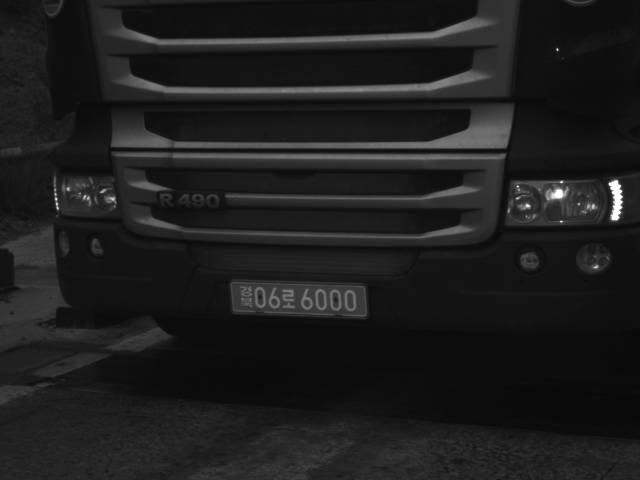car: (37, 1, 640, 392)
plate: (229, 281, 369, 316)
